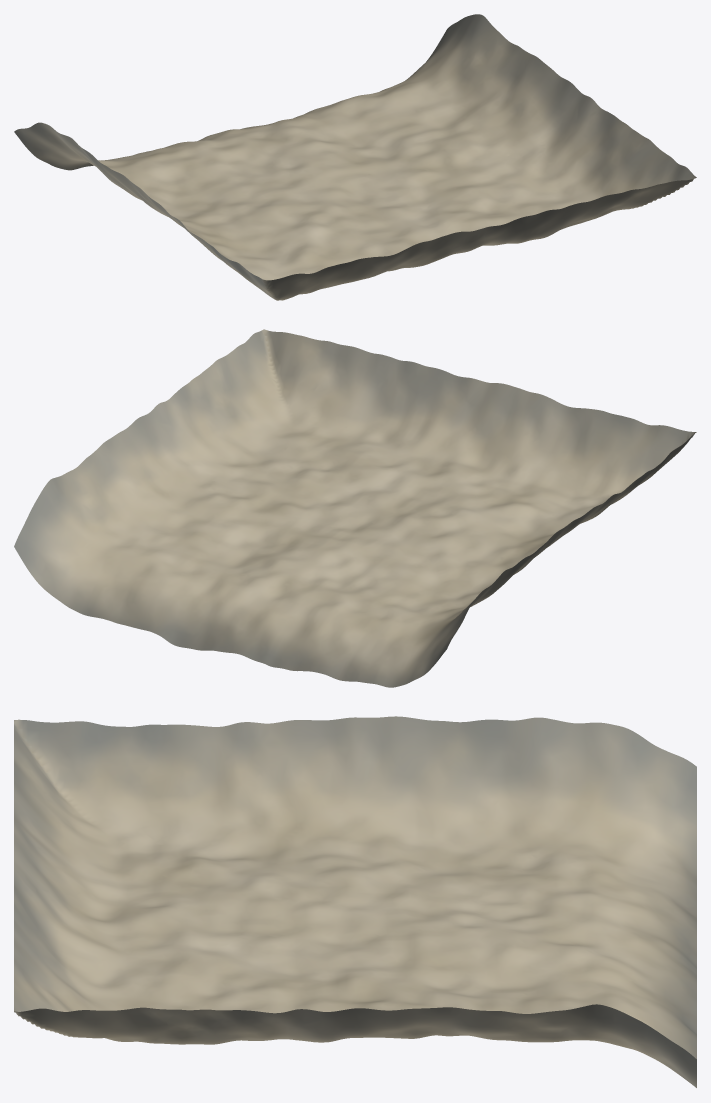
File: seafloor_terrain.glb
The picture shows the model from 3 angles, top to bottom: view 1: azimuth 30°, elevation 25°; view 2: azimuth 150°, elevation 25°; view 3: azimuth 270°, elevation 25°; orthographic projection. The views are drawn at different scales.
Visible parts, largest first — view 1: seafloor_terrain; view 2: seafloor_terrain; view 3: seafloor_terrain.
Boxes of the visible parts, x1,y1,x2,y2 form: seafloor_terrain: (14,14,696,300); seafloor_terrain: (14,329,696,687); seafloor_terrain: (14,716,696,1087).
Bounding box in the file's own units: 150 × 33.17 × 150.
